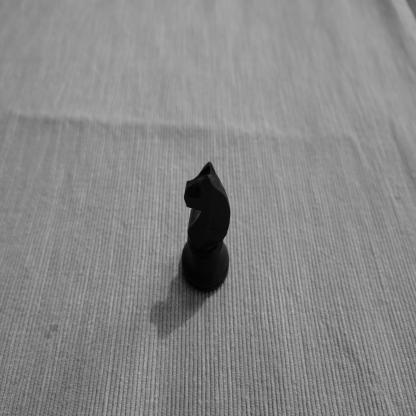black-knight: (180, 160, 231, 292)
